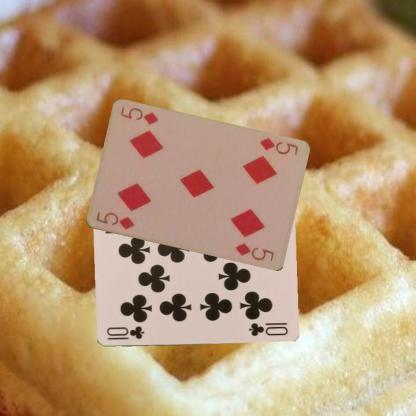10c: (104, 324, 146, 342)
5d: (256, 135, 300, 157), (93, 209, 135, 231)
